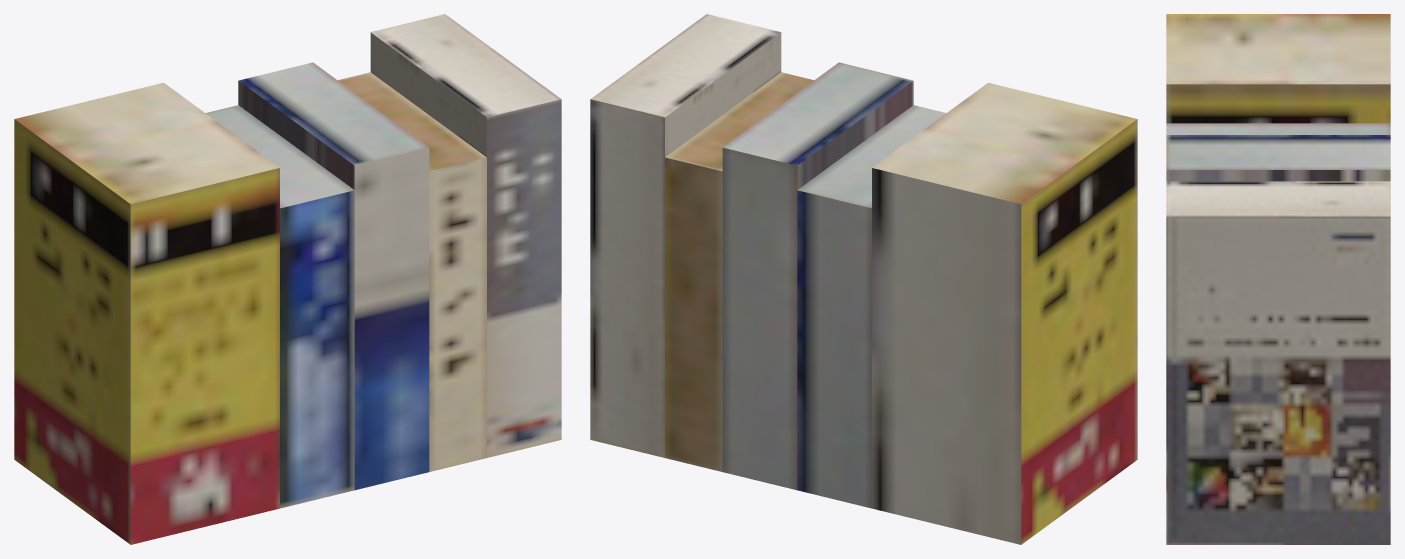
File: BookStack01b.obj
3 renders of one model, left to right at view 1: azimuth 30°, elevation 25°; view 2: azimuth 150°, elevation 25°; view 3: azimuth 270°, elevation 25°, orthographic. The views are drawn at different scales.
Visible parts, largest first — view 1: BookStack01b; view 2: BookStack01b; view 3: BookStack01b.
Boxes of the visible parts, x1,y1,x2,y2 form: BookStack01b: [14, 14, 561, 544]; BookStack01b: [590, 14, 1137, 544]; BookStack01b: [1166, 14, 1390, 544].
Size of the model in its own units: 0.625 by 0.4724 by 0.2925.
